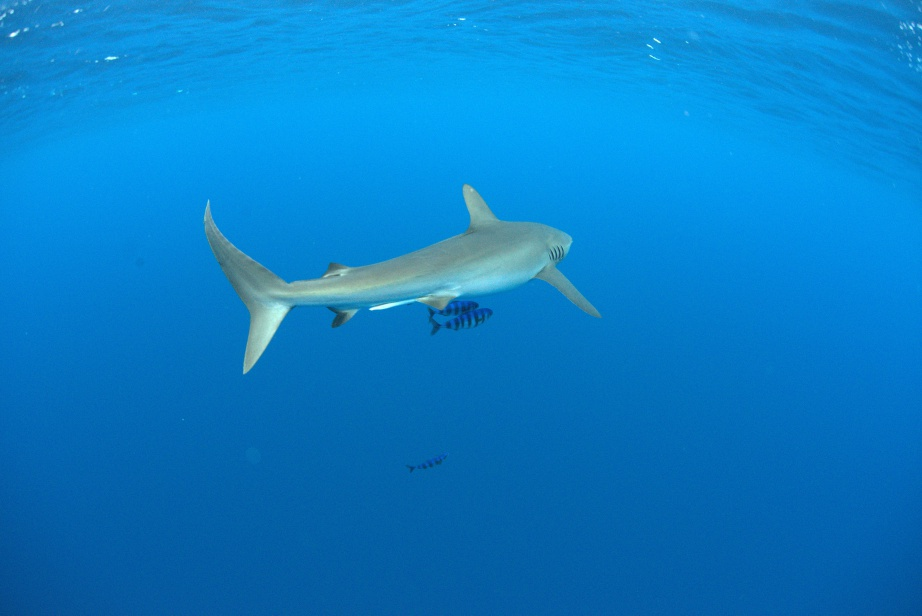Sedoso: (161, 178, 622, 382)
